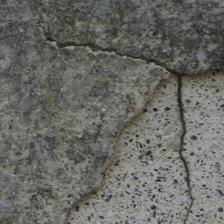Crack: (23, 0, 179, 132), (42, 96, 183, 123), (47, 80, 131, 119)
